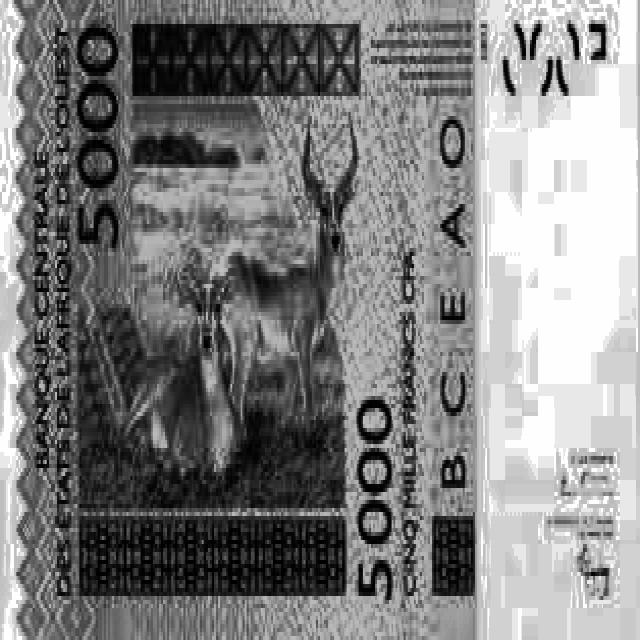junni: (20, 2, 640, 638)
